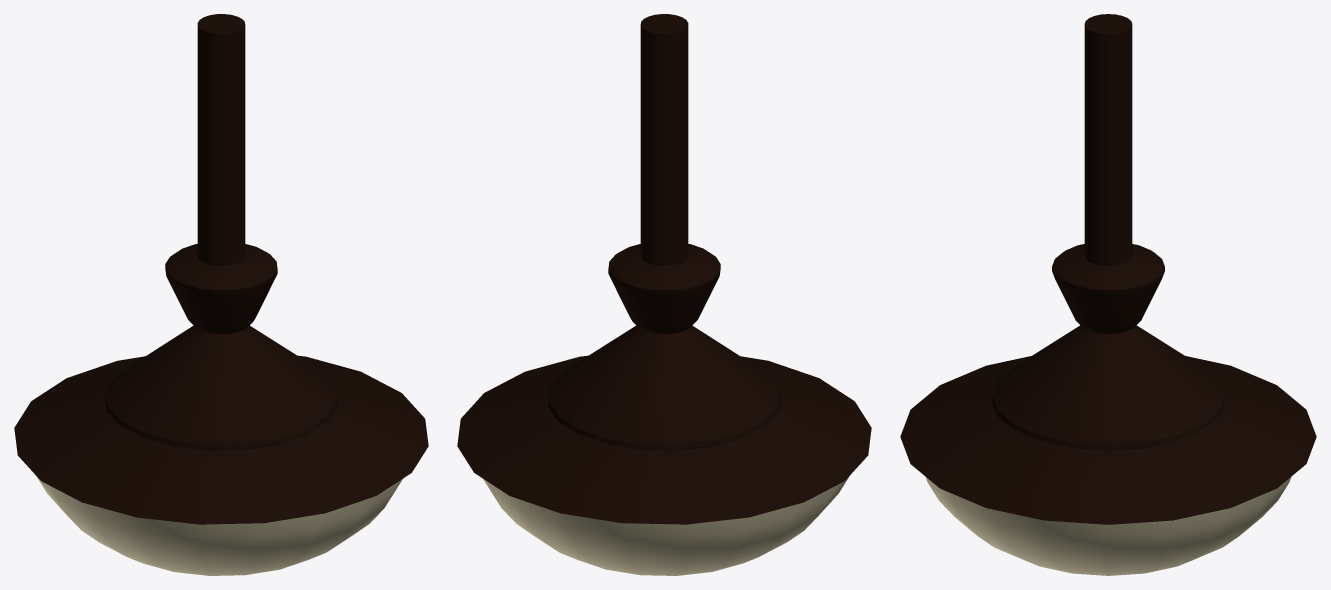
The model's file is Lampe_Plafond.fbx.
The picture shows the model from 3 angles, left to right: view 1: azimuth 30°, elevation 25°; view 2: azimuth 150°, elevation 25°; view 3: azimuth 270°, elevation 25°; orthographic projection.
Parts seen in each view (by area): view 1: pCylinder1, pSphere1; view 2: pCylinder1, pSphere1; view 3: pCylinder1, pSphere1.
Boxes of the visible parts, x1=… form: pCylinder1: x1=14, y1=14, x2=428, y2=524; pSphere1: x1=36, y1=476, x2=402, y2=575; pCylinder1: x1=457, y1=14, x2=871, y2=524; pSphere1: x1=483, y1=476, x2=849, y2=575; pCylinder1: x1=900, y1=14, x2=1316, y2=524; pSphere1: x1=925, y1=477, x2=1291, y2=575.
Size of the model in its own units: 66.71 by 93.4 by 66.71.
